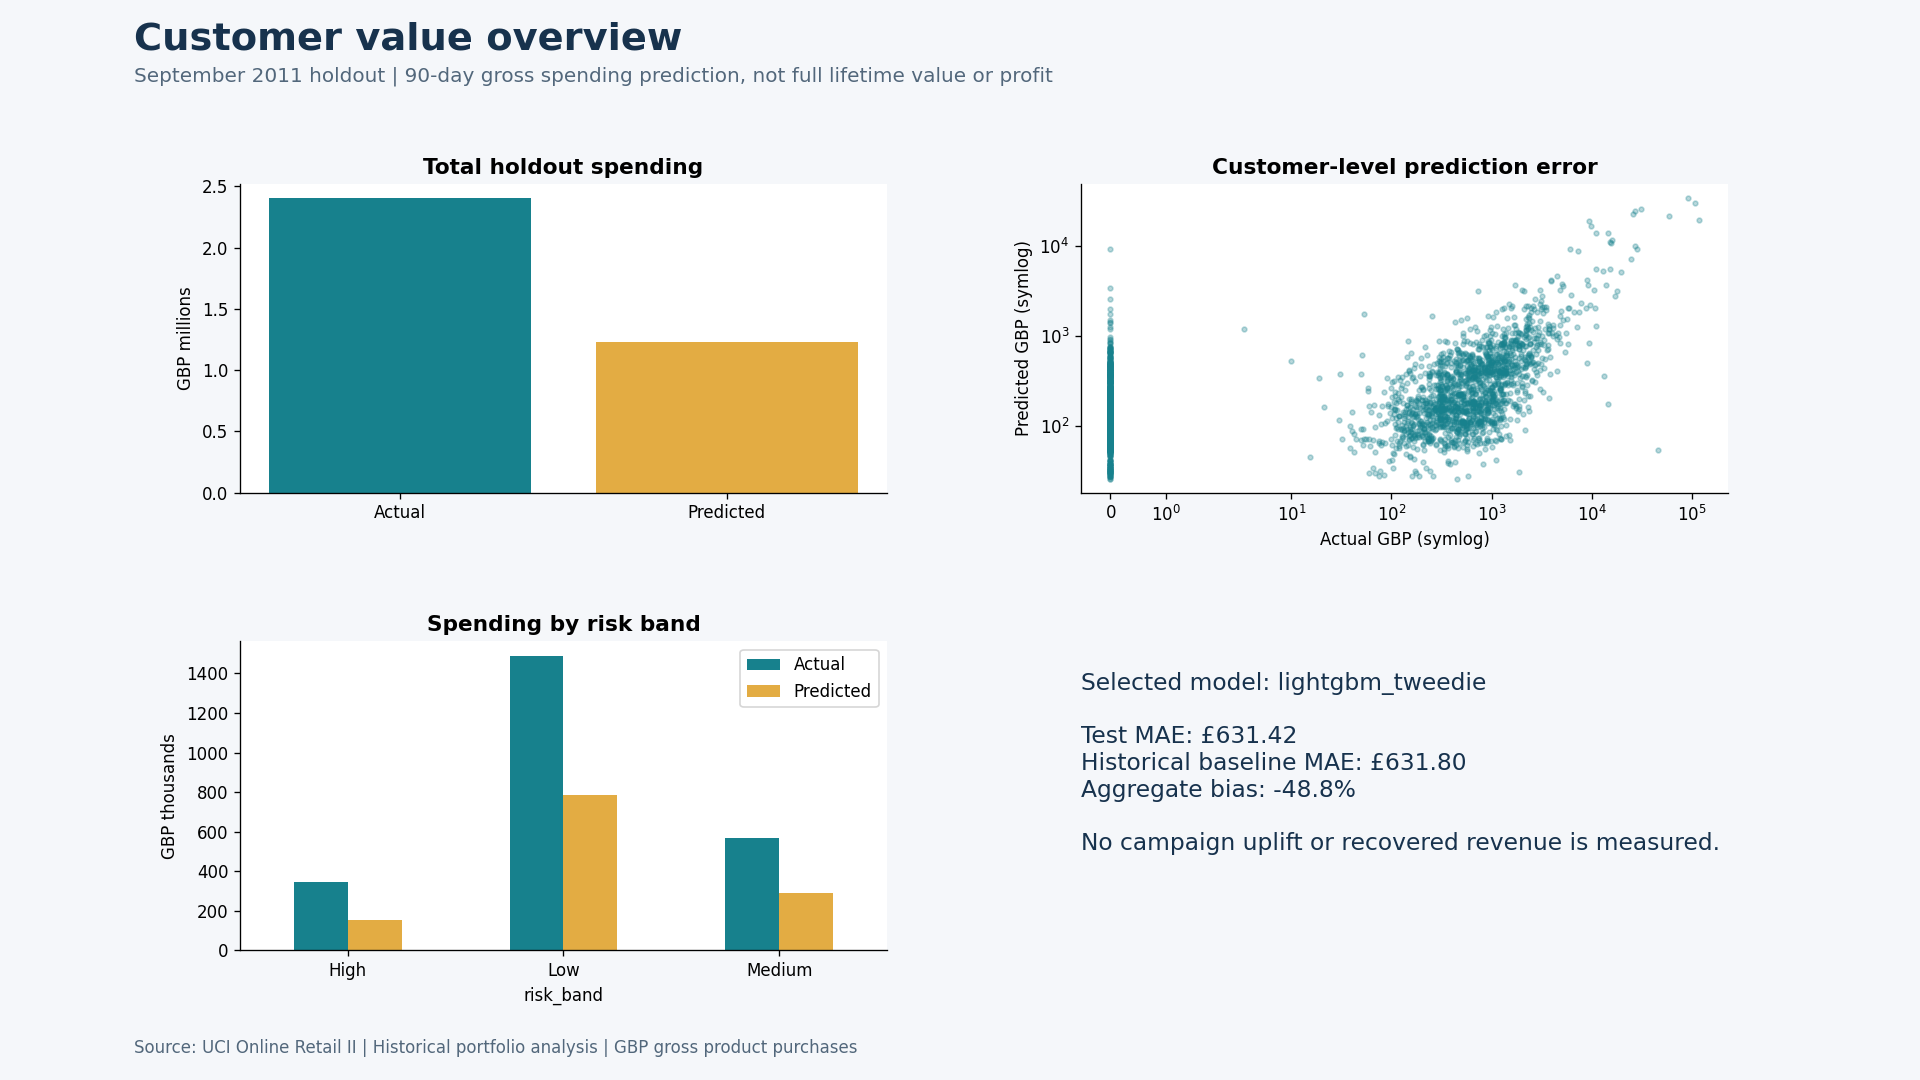

This screenshot's page, from the dashboard's own definition file:
{"tool":"tableau","page":{"name":"02 Customer Value and Accuracy","canvas":[1400,900],"ordinal":1},"visuals":[{"type":"text","box":[24,12,1030,42]},{"type":"filter","title":"Actual vs Predicted by Risk","param":"[federated.07lwauo1oayhs812cqb8y00wfsva].[none:risk_band:nk]","box":[1120,18,256,80]},{"type":"text","box":[24,58,1030,48]},{"type":"worksheet","title":"KPI Actual Spending","mark":"Text","box":[24,120,326,116]},{"type":"worksheet","title":"KPI Predicted Spending","mark":"Text","box":[366,120,326,116]},{"type":"worksheet","title":"KPI Spending Bias","mark":"Text","box":[708,120,326,116]},{"type":"worksheet","title":"KPI MAE","mark":"Text","box":[1050,120,326,116]},{"type":"worksheet","title":"Actual vs Predicted by Risk","mark":"Bar","cols":["risk_band"],"box":[24,256,600,280]},{"type":"worksheet","title":"Actual vs Predicted per Customer","mark":"Circle","rows":["predicted_spend_90"],"cols":["future_spend_90"],"box":[640,256,736,280]},{"type":"text","box":[24,542,1352,36]},{"type":"worksheet","title":"Largest Errors","mark":"Text","rows":["customer_id"],"box":[24,590,856,224]},{"type":"text","box":[896,590,480,224]},{"type":"text","box":[24,832,1352,56]}]}

Visuals, with their boxes on the page's 1400x900 design canvas (x1, y1, x2, y2). These are canvas units, not pixel positions in the 1920x1080 screenshot, which may show the page scaled, cropped or inside an application window:
text: pyautogui.locateOnScreen(24, 12, 1054, 54)
"Actual vs Predicted by Risk" filter: pyautogui.locateOnScreen(1120, 18, 1376, 98)
text: pyautogui.locateOnScreen(24, 58, 1054, 106)
"KPI Actual Spending" worksheet (Text marks): pyautogui.locateOnScreen(24, 120, 350, 236)
"KPI Predicted Spending" worksheet (Text marks): pyautogui.locateOnScreen(366, 120, 692, 236)
"KPI Spending Bias" worksheet (Text marks): pyautogui.locateOnScreen(708, 120, 1034, 236)
"KPI MAE" worksheet (Text marks): pyautogui.locateOnScreen(1050, 120, 1376, 236)
"Actual vs Predicted by Risk" worksheet (Bar marks): pyautogui.locateOnScreen(24, 256, 624, 536)
"Actual vs Predicted per Customer" worksheet (Circle marks): pyautogui.locateOnScreen(640, 256, 1376, 536)
text: pyautogui.locateOnScreen(24, 542, 1376, 578)
"Largest Errors" worksheet (Text marks): pyautogui.locateOnScreen(24, 590, 880, 814)
text: pyautogui.locateOnScreen(896, 590, 1376, 814)
text: pyautogui.locateOnScreen(24, 832, 1376, 888)
